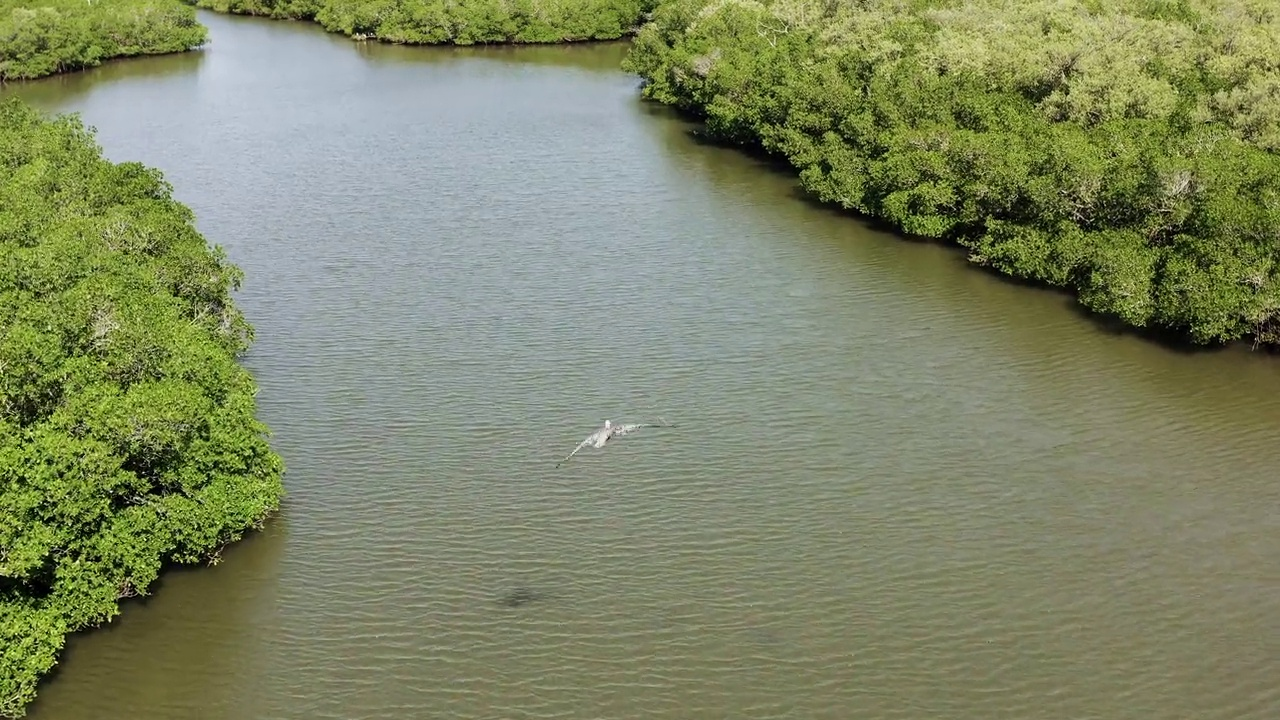bird: (555, 419, 671, 469)
